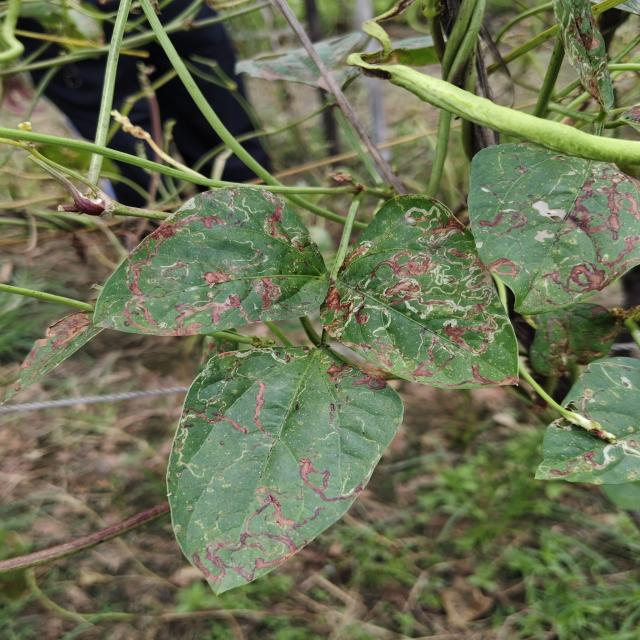leaf-low: (347, 53, 640, 164)
leaf-moderate: (320, 195, 518, 389)
sitaw-aphid-high: (536, 357, 640, 485)
sitaw-aphid-low: (167, 346, 403, 594), (94, 186, 328, 337), (468, 143, 640, 315)
